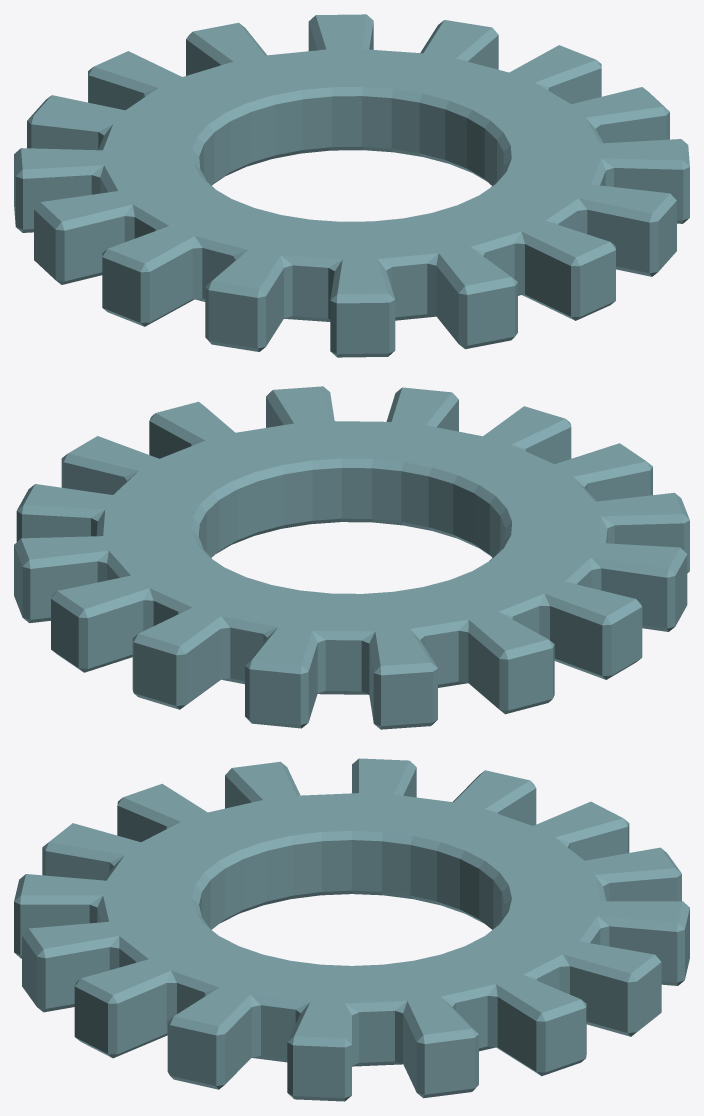
File: IronGear.gltf
3 views of the same model, one above another, from view 1: azimuth 30°, elevation 25°; view 2: azimuth 150°, elevation 25°; view 3: azimuth 270°, elevation 25° (orthographic).
Visible parts, largest first — view 1: IronGear; view 2: IronGear; view 3: IronGear.
Boxes of the visible parts, x1=… form: IronGear: x1=14, y1=14, x2=689, y2=357; IronGear: x1=14, y1=386, x2=689, y2=729; IronGear: x1=14, y1=758, x2=689, y2=1101.
Bounding box in the file's own units: 0.774 × 0.08 × 0.774.
